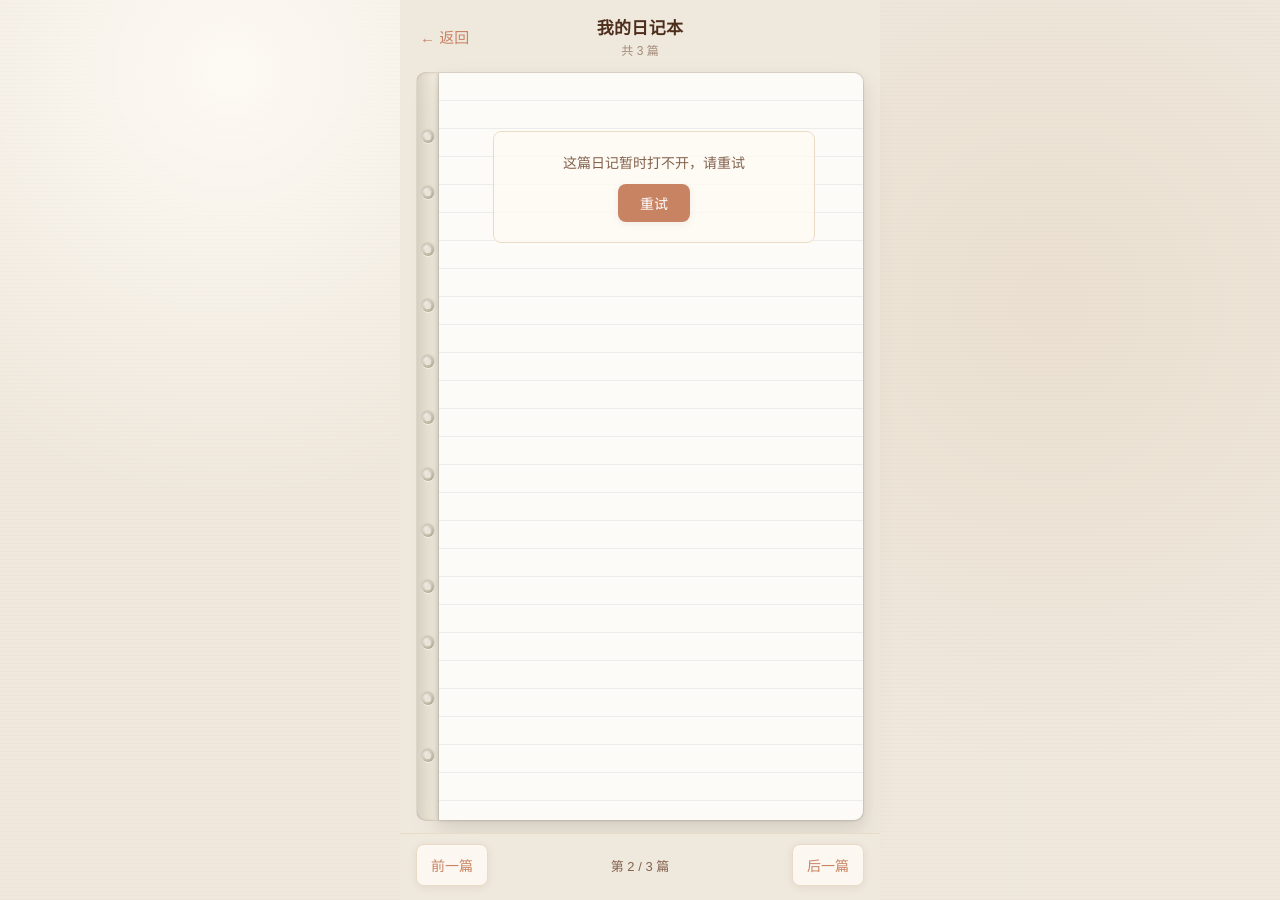
Test: DiaryNotebook › detail failure shows role alert with retry and keeps the index and page indicator
This screenshot has width=1280, height=900.
Expected: the message "这篇日记暂时打不开，请重试 重试" is shown, [493,131,815,243]
Expected: the text "第 2 / 3 篇" is shown, [611,856,669,874]
Click the button "重试" at (654, 203), box [618,184,690,222]
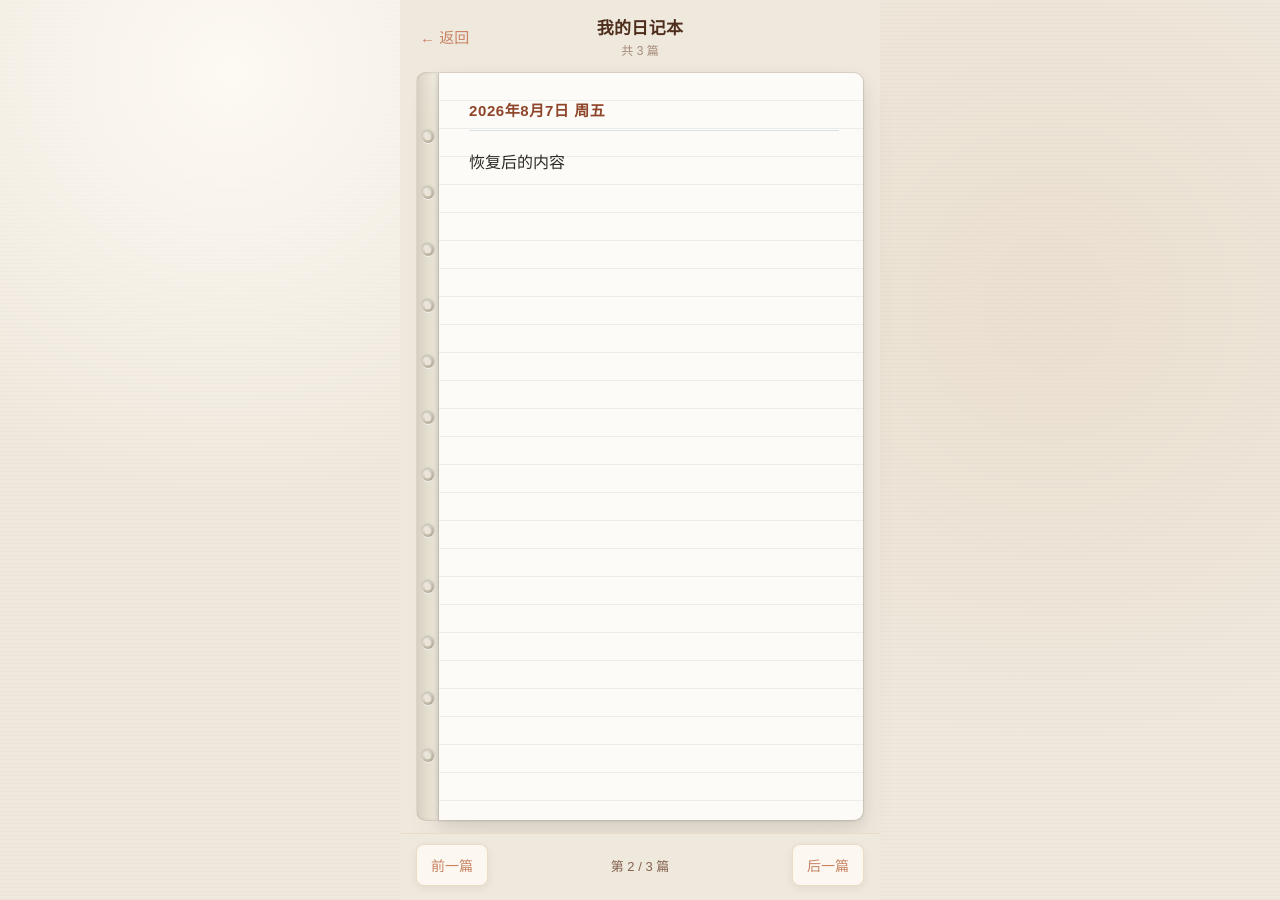
Expected: the text "第 2 / 3 篇" is shown, [611,856,669,874]
Expected: the text "恢复后的内容" is shown, [469,154,565,171]
Expected: the message "这篇日记暂时打不开，请重试 重试" is gone
